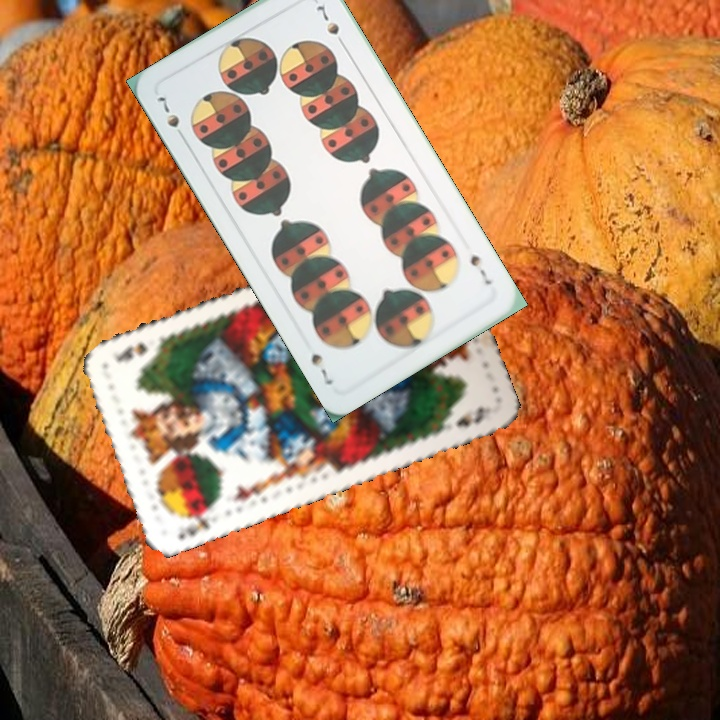S7: (152, 89, 189, 144), (466, 248, 495, 288)
SK: (174, 503, 215, 543)
